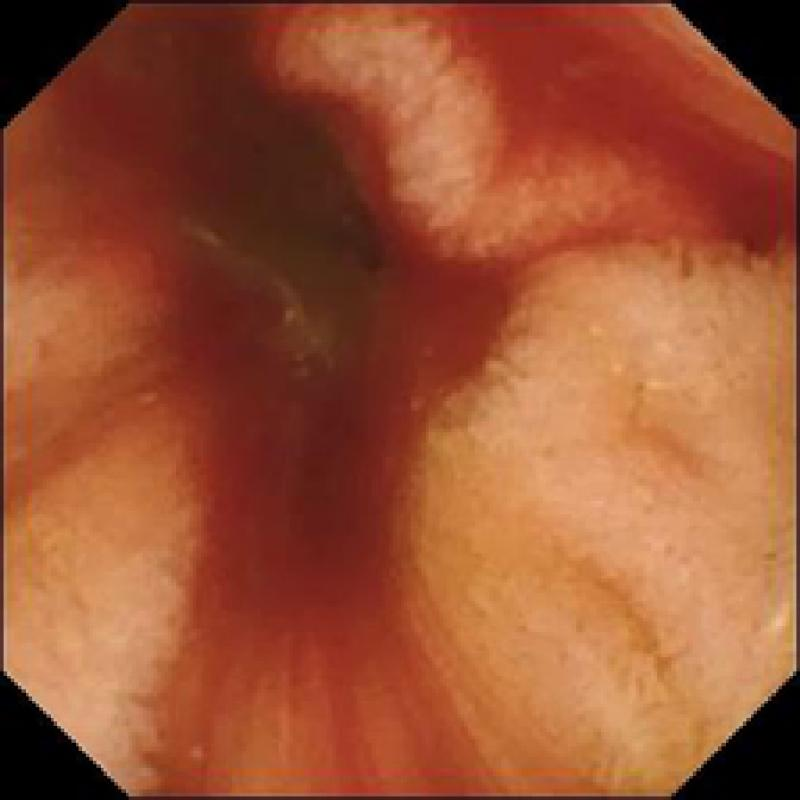bleeding: (43, 3, 800, 800)
